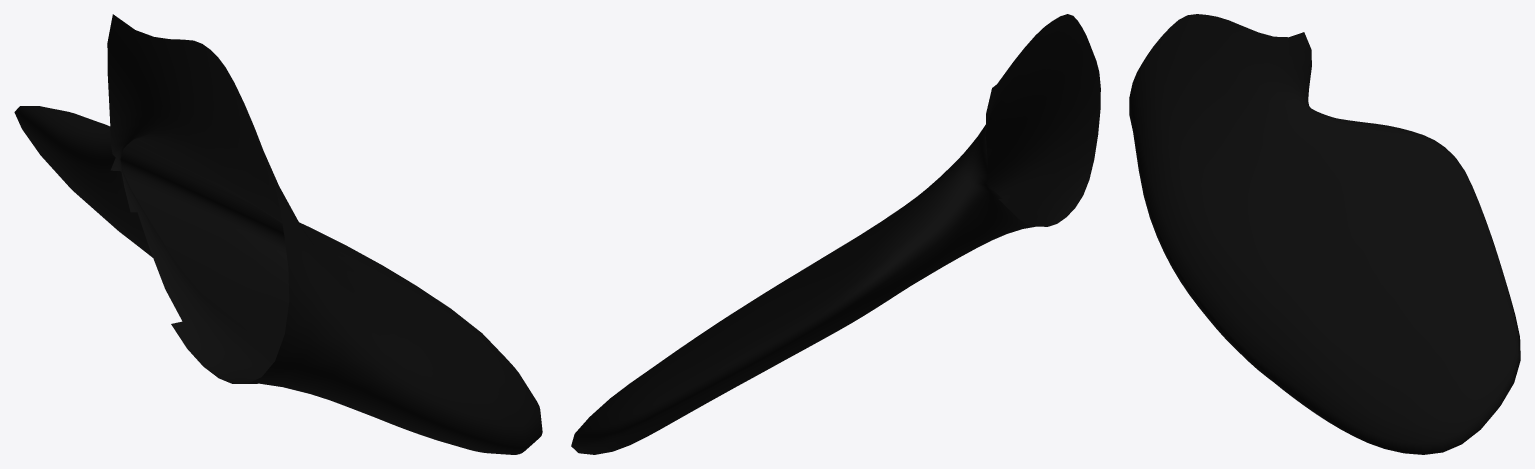
Rendered from aletaIzqOrca.obj.
3 views of the same model, side by side, from view 1: azimuth 30°, elevation 25°; view 2: azimuth 150°, elevation 25°; view 3: azimuth 270°, elevation 25° (orthographic). The views are drawn at different scales.
Parts seen in each view (by area): view 1: aletaIzq; view 2: aletaIzq; view 3: aletaIzq.
Part boxes in pixels (<box>): aletaIzq: <box>14,14,542,454</box>; aletaIzq: <box>571,14,1100,454</box>; aletaIzq: <box>1129,14,1520,454</box>.
Bounding box in the file's own units: 7.51 × 8.66 × 9.69.
